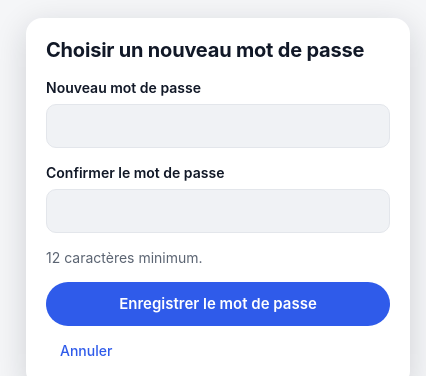
Test case: AccountMenu › nouveau mot de passe (arrivée par le lien de l’e-mail) › s’ouvre directement, enregistre, puis invite à se reconnecter
(page scrolled)
Expected: the heading "Choisir un nouveau mot de passe" is shown, [46,38,390,63]
Type "nouveau-mot-de-passe" into the password field labelled "Nouveau mot de passe".
click(218, 126); type("nouveau-mot-de-passe")  # box [46,104,390,148]
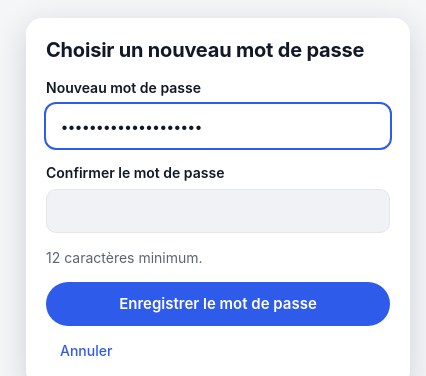
Type "nouveau-mot-de-passe" into the password field labelled "Confirmer le mot de passe".
click(218, 211); type("nouveau-mot-de-passe")  # box [46,189,390,233]
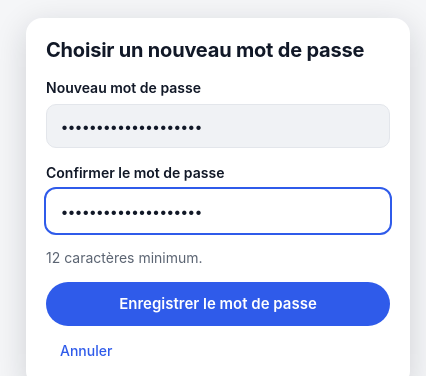
Click the button "Enregistrer le mot de passe".
click(218, 304)  # box [46,282,390,326]
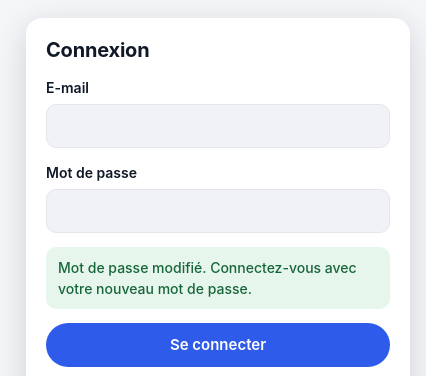
Now the message shows "Mot de passe modifié. Connectez-vous", box [58,259,357,297]
Now the heading "Connexion" is shown, box [46,38,149,62]
